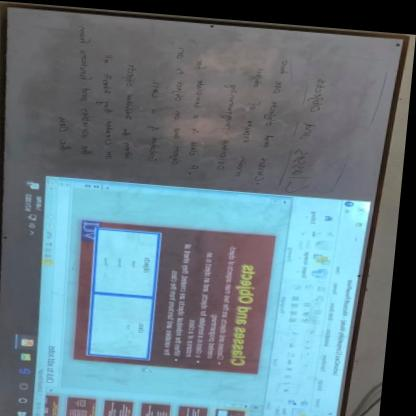Handwritten text: (281, 66, 342, 196), (247, 49, 302, 180), (229, 55, 273, 177), (207, 72, 249, 169), (184, 52, 217, 168), (164, 40, 192, 164), (71, 19, 96, 155), (96, 46, 120, 159), (121, 57, 140, 160), (145, 70, 166, 161), (55, 111, 75, 152)
Whiteboard: (0, 4, 412, 416)
